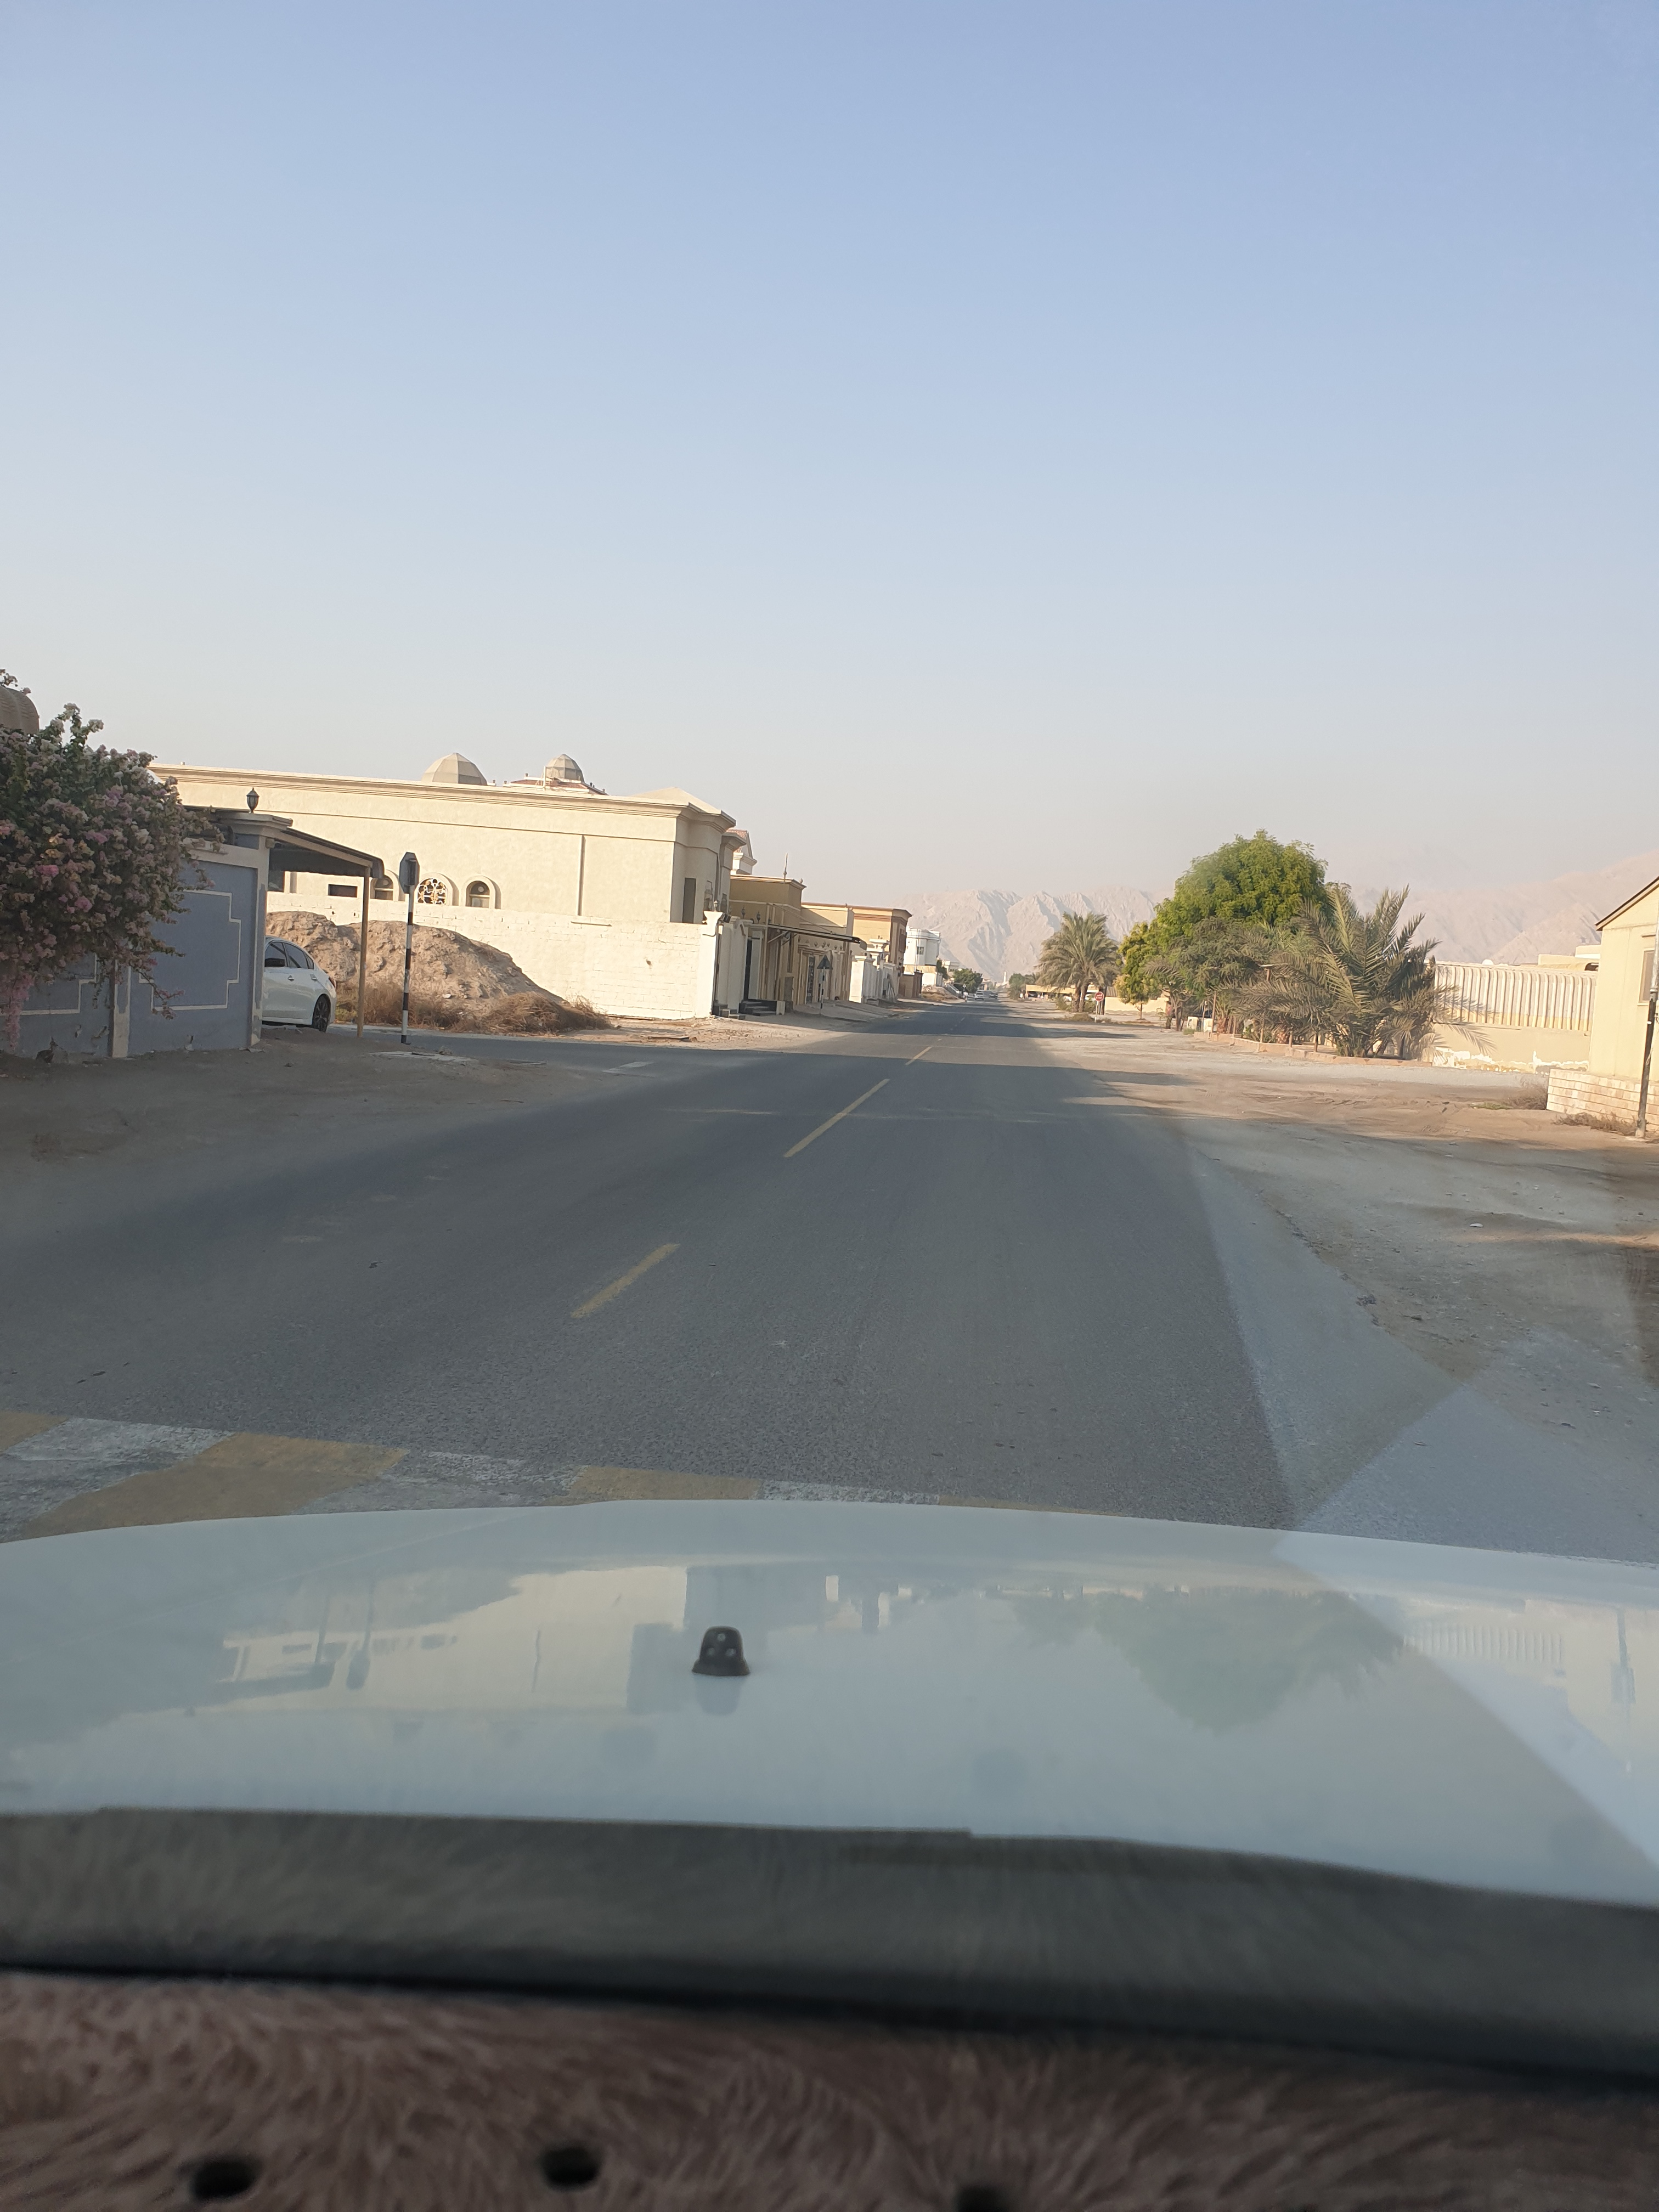fallen_trees: (471, 1007, 608, 1050)
